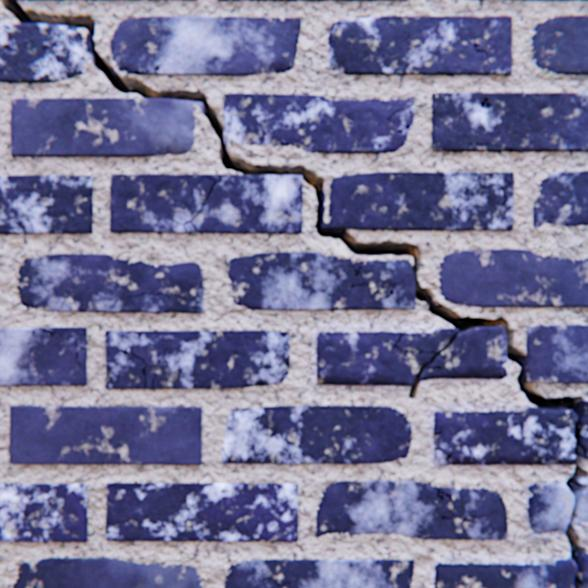brick: (224, 94, 413, 154), (11, 405, 202, 464), (106, 482, 297, 541), (111, 17, 300, 76), (316, 480, 506, 538), (323, 173, 512, 231), (12, 99, 200, 157), (327, 17, 511, 76), (224, 405, 411, 463), (228, 252, 414, 310), (18, 254, 203, 312), (106, 330, 290, 388), (431, 94, 587, 152), (438, 249, 587, 307), (192, 175, 302, 233), (111, 175, 214, 233), (14, 557, 202, 587), (224, 558, 413, 587), (0, 176, 93, 234), (0, 25, 89, 83), (0, 483, 88, 541), (0, 327, 87, 385), (525, 325, 587, 382), (530, 17, 587, 75), (532, 172, 587, 228), (218, 0, 407, 2), (185, 223, 199, 233), (56, 0, 143, 1), (222, 451, 229, 462), (515, 0, 587, 1), (146, 0, 198, 1), (27, 0, 51, 1), (9, 0, 22, 1)
broken_brick: (433, 407, 575, 464), (317, 331, 420, 385), (420, 326, 506, 380), (434, 558, 575, 587), (527, 482, 572, 532), (396, 328, 457, 351), (571, 476, 587, 525), (580, 401, 587, 458), (403, 352, 433, 363), (580, 552, 587, 587), (433, 450, 447, 464)
crack: (1, 0, 587, 587), (172, 175, 220, 233), (122, 345, 146, 388), (436, 487, 456, 518), (495, 173, 507, 212), (458, 514, 484, 530), (466, 143, 512, 152), (387, 104, 412, 120), (433, 447, 451, 464), (263, 577, 290, 587), (155, 347, 167, 368), (351, 278, 376, 288), (383, 283, 397, 299), (61, 334, 78, 346), (473, 45, 486, 59), (256, 438, 268, 451), (41, 327, 58, 335), (223, 446, 230, 462), (397, 125, 409, 134), (473, 173, 480, 188), (480, 98, 489, 109), (76, 352, 82, 367), (354, 267, 361, 276), (155, 65, 161, 75), (464, 190, 471, 198), (152, 373, 156, 386), (131, 293, 145, 296), (255, 574, 261, 581), (141, 71, 150, 75), (132, 70, 139, 75), (147, 293, 161, 295), (80, 346, 87, 350)
